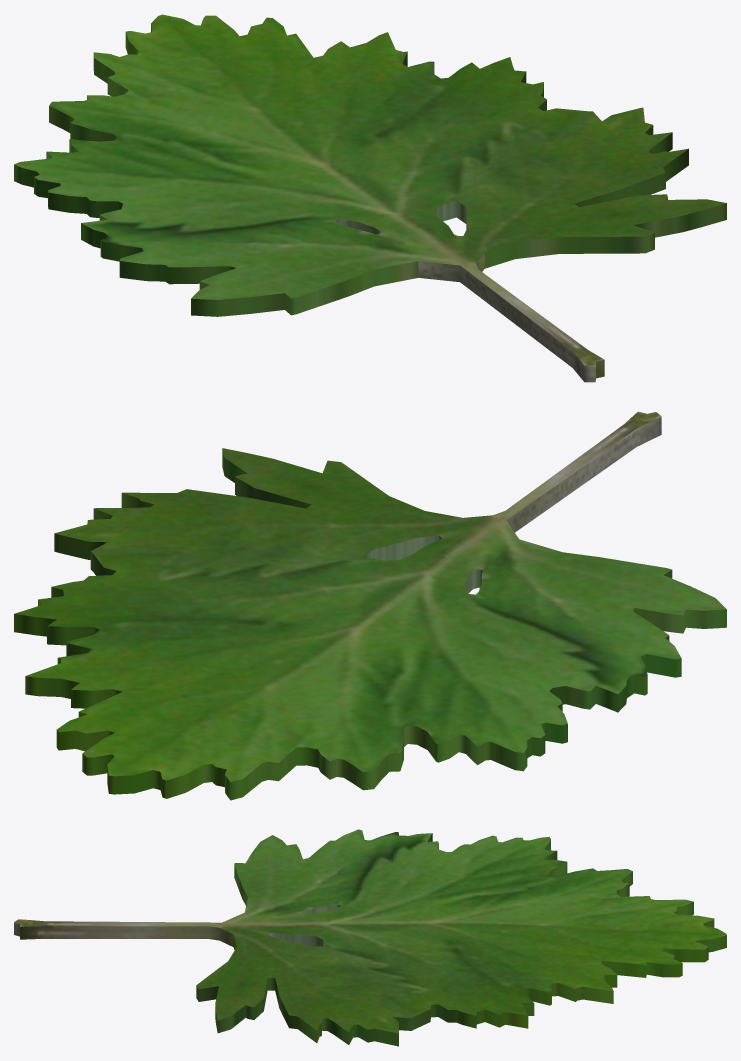
The model's file is aiye.FBX.
The picture shows the model from 3 angles, top to bottom: view 1: azimuth 30°, elevation 25°; view 2: azimuth 150°, elevation 25°; view 3: azimuth 270°, elevation 25°; orthographic projection. The views are drawn at different scales.
Visible parts, largest first — view 1: Line001; view 2: Line001; view 3: Line001.
Part boxes in pixels (x1,y1,x2,y2): Line001: (14, 14, 726, 382); Line001: (14, 411, 726, 800); Line001: (14, 829, 726, 1046).
Bounding box in the file's own units: 34.42 × 1 × 50.74.
1 material, 1 textured.
